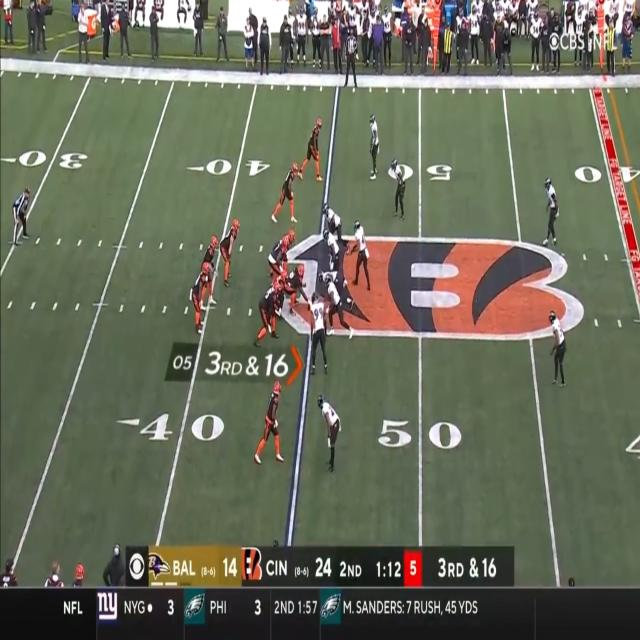Ball: (307, 302, 311, 312)
